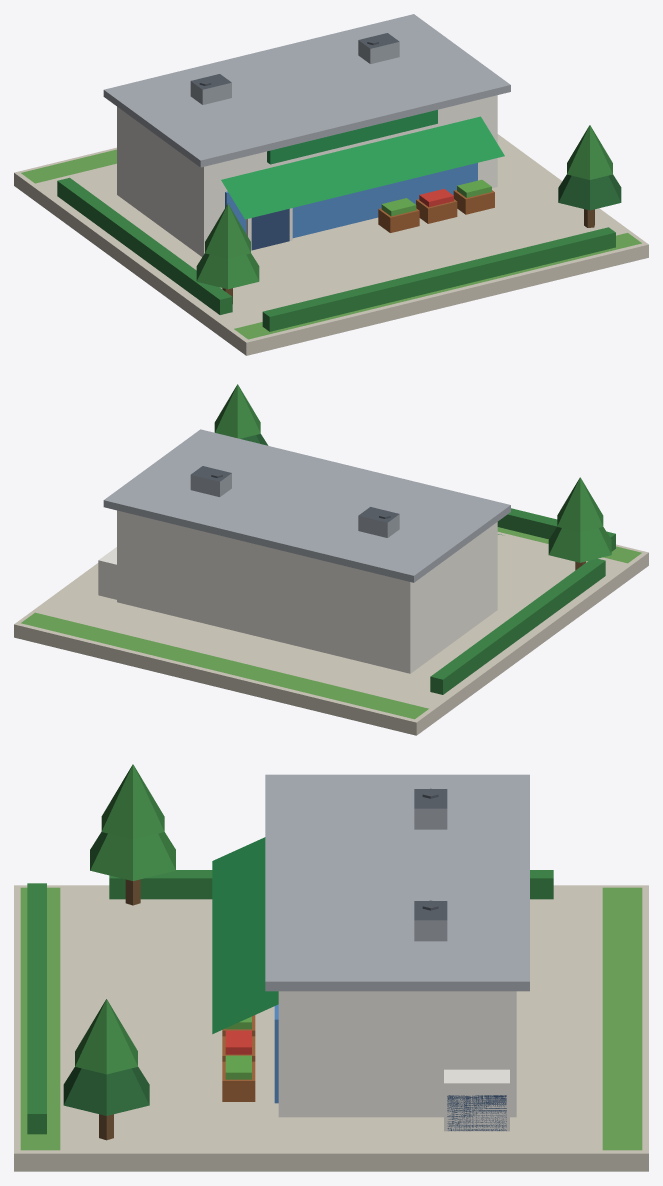
3 views of the same model, one above another, from view 1: azimuth 30°, elevation 25°; view 2: azimuth 150°, elevation 25°; view 3: azimuth 270°, elevation 25° (orthographic). The views are drawn at different scales.
Parts seen in each view (by area): view 1: b13; view 2: b13; view 3: b13.
Part boxes in pixels (x1,y1,x2,y2): b13: [14, 14, 648, 355]; b13: [14, 384, 648, 735]; b13: [14, 764, 648, 1171].
Bounding box in the file's own units: 0.99 × 0.309 × 0.96.
